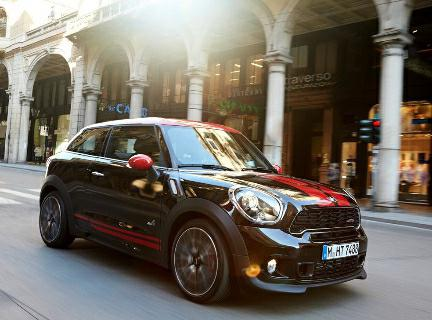MINI-JCWPACEMAN: (20, 120, 370, 288)
